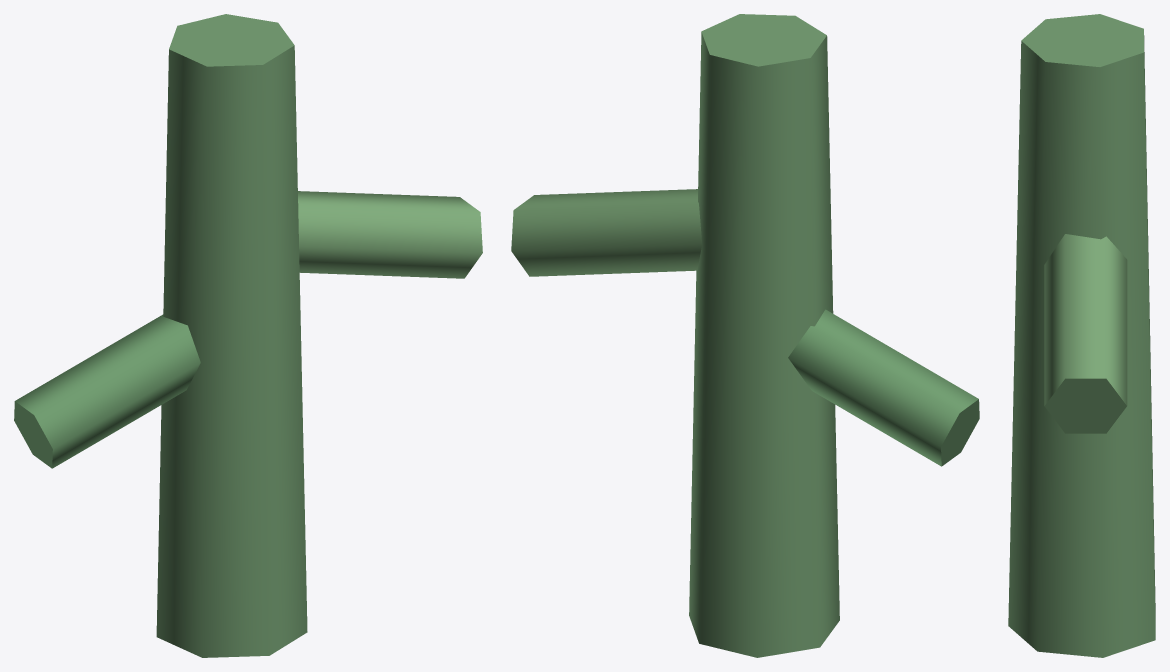
The model's file is cactus.glb.
3 renders of one model, left to right at view 1: azimuth 30°, elevation 25°; view 2: azimuth 150°, elevation 25°; view 3: azimuth 270°, elevation 25°, orthographic.
Visible parts, largest first — view 1: cactus; view 2: cactus; view 3: cactus.
Part boxes in pixels (<box>): cactus: <box>14,14,482,657</box>; cactus: <box>511,14,979,657</box>; cactus: <box>1008,14,1155,657</box>.
Bounding box in the file's own units: 3.98 × 5 × 1.14.
